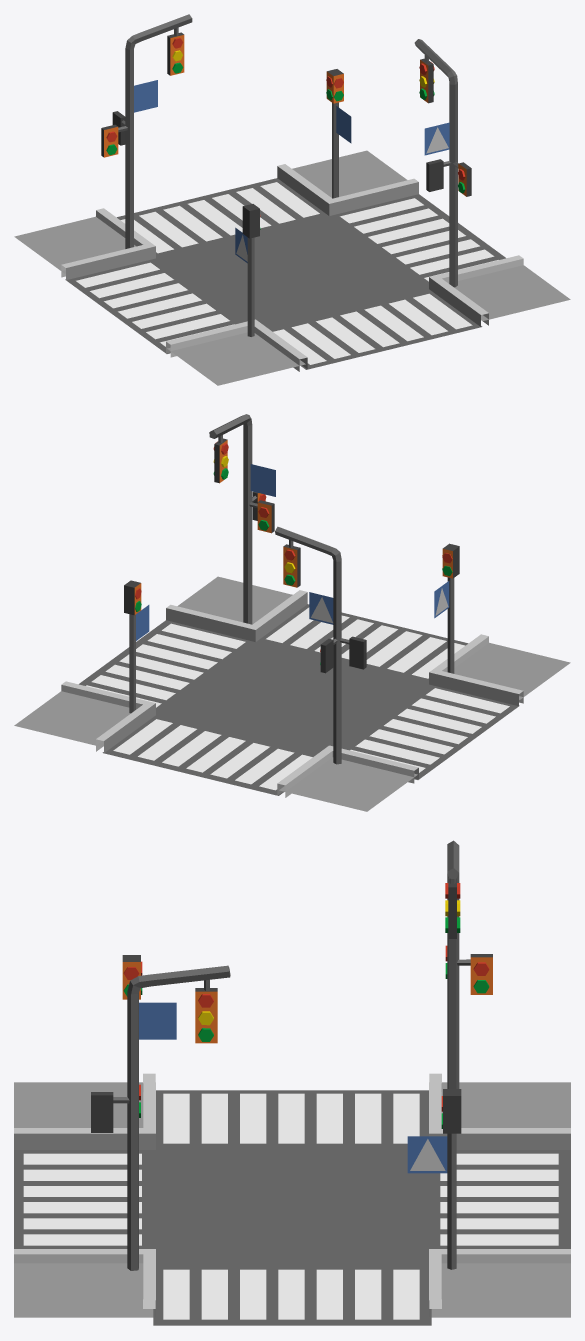
The model's file is Road_Tile_8.fbx.
3 renders of one model, top to bottom at view 1: azimuth 30°, elevation 25°; view 2: azimuth 150°, elevation 25°; view 3: azimuth 270°, elevation 25°, orthographic. The views are drawn at different scales.
Parts seen in each view (by area): view 1: Road_8, Road_8_3, Road_8_1, Road_8_4, Road_8_2; view 2: Road_8, Road_8_3, Road_8_1, Road_8_4, Road_8_2; view 3: Road_8, Road_8_1, Road_8_3, Road_8_2, Road_8_4.
Boxes of the visible parts, x1,y1,x2,y2 form: Road_8: (14,150,570,385); Road_8_3: (101,14,192,248); Road_8_1: (414,39,471,287); Road_8_4: (235,204,260,336); Road_8_2: (326,69,351,198); Road_8: (14,576,570,811); Road_8_3: (275,526,366,764); Road_8_1: (209,414,275,624); Road_8_4: (434,543,459,673); Road_8_2: (124,580,149,713); Road_8: (14,1073,570,1325); Road_8_1: (91,965,230,1270); Road_8_3: (445,840,492,1088); Road_8_2: (407,1089,461,1269); Road_8_4: (122,955,176,1039).
Bounding box in the file's own units: 4 × 2.47 × 4.
